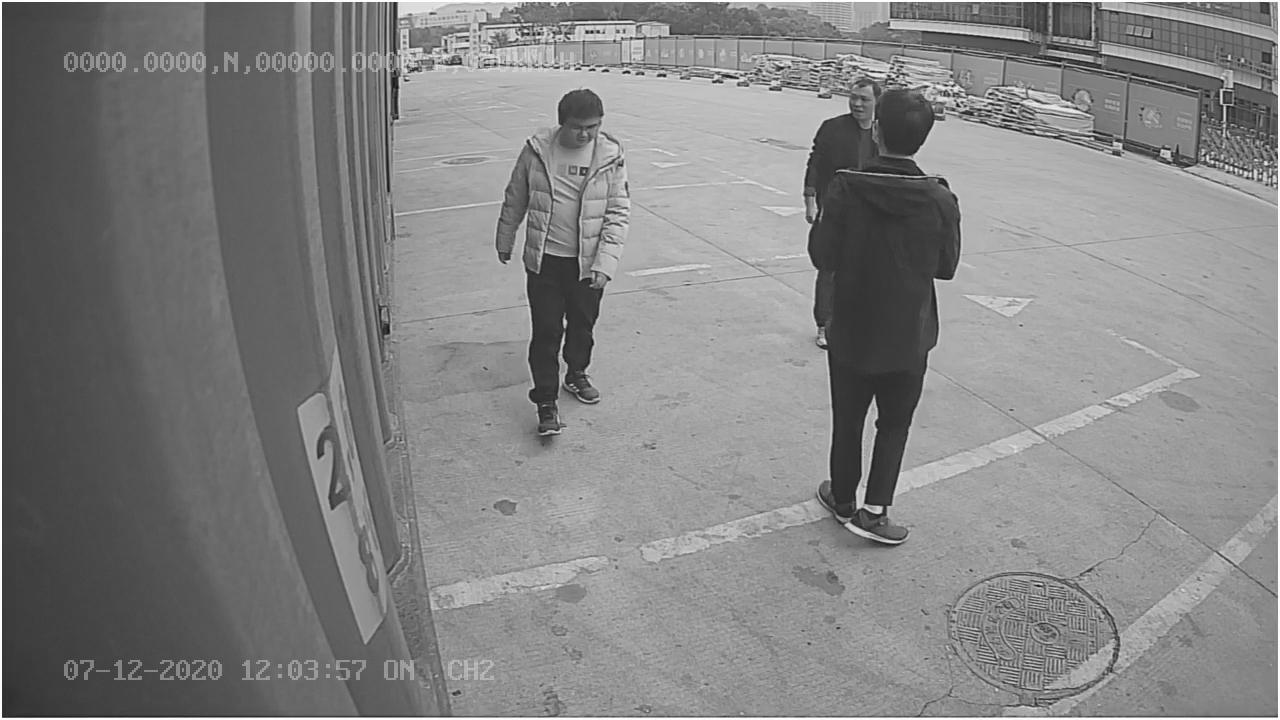person: (492, 84, 634, 442)
